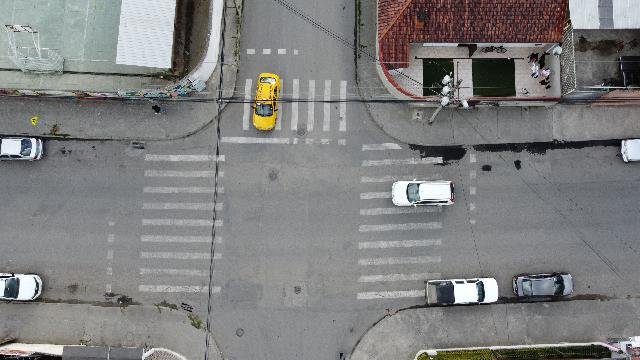Vehiculo: (426, 278, 498, 306), (513, 272, 573, 300), (252, 74, 281, 130), (392, 180, 454, 206), (0, 273, 42, 302), (1, 137, 44, 161), (620, 138, 640, 162)
